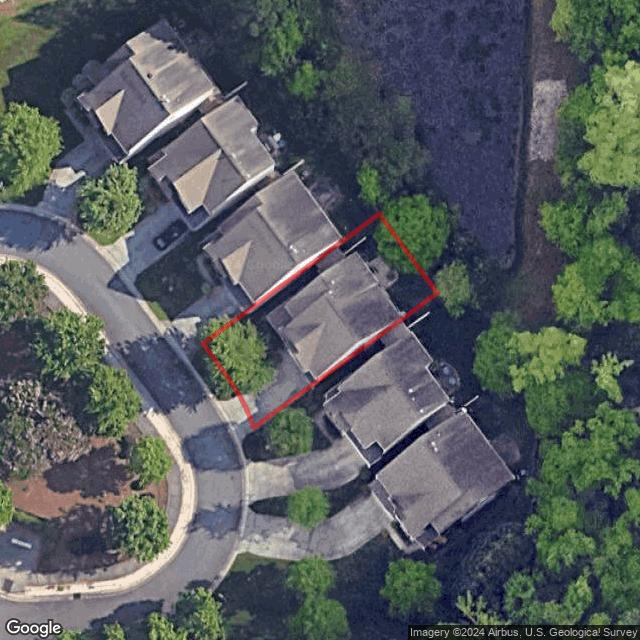Driveway: (235, 351, 311, 426)
Extra-Driveway: (217, 388, 254, 441)
Extra-Lawn: (186, 342, 235, 402)
House: (267, 251, 400, 378)
Lawn: (203, 214, 437, 428)
Other: (316, 233, 368, 273), (367, 251, 401, 291)
Sidewalk: (263, 331, 282, 360)
